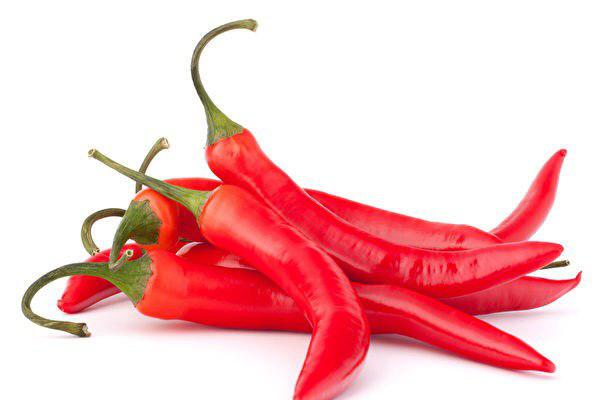lada merah: (198, 129, 561, 295), (123, 253, 564, 384), (191, 178, 377, 396)
